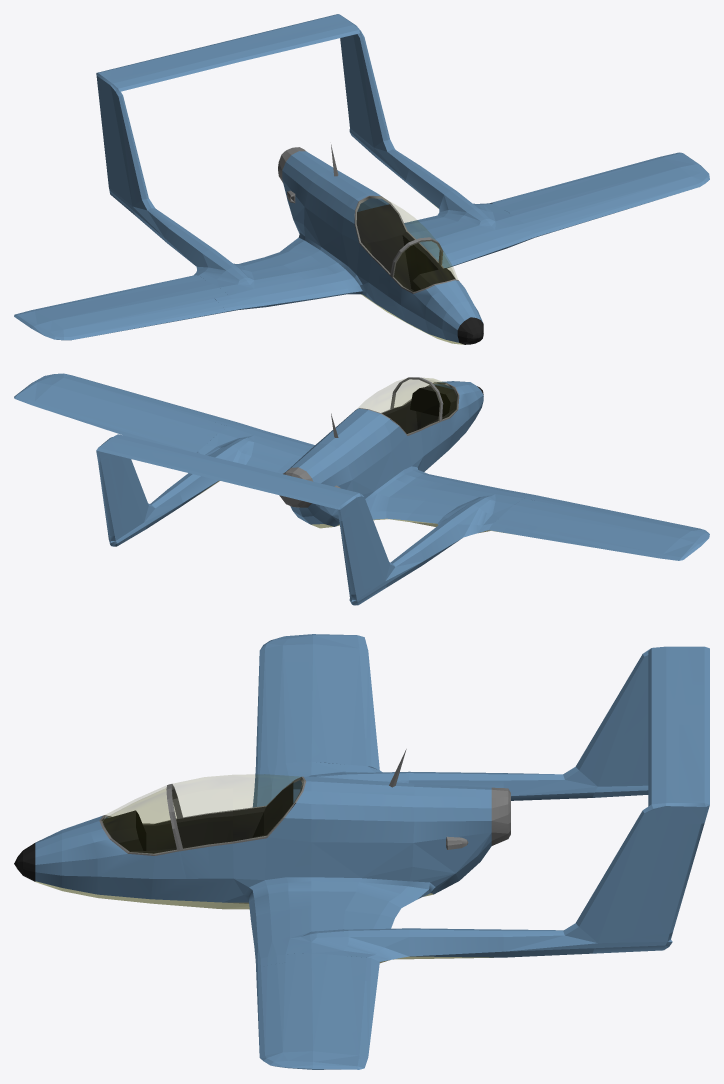
The model's file is aircraft_5_control_surfaces_rigged.glb.
The picture shows the model from 3 angles, top to bottom: view 1: azimuth 30°, elevation 25°; view 2: azimuth 150°, elevation 25°; view 3: azimuth 270°, elevation 25°; orthographic projection. The views are drawn at different scales.
Parts seen in each view (by area): view 1: body, OuterWingLeft, OuterWingRight, HorizontalBridge, elevator, VerticalTipRight, VerticalTipLeft, outer wing left, outer wing right, aileron left, canopy, aileron right (+3 smaller); view 2: body, OuterWingLeft, OuterWingRight, elevator, aileron left, VerticalTipRight, aileron right, outer wing right, outer wing left, HorizontalBridge, VerticalTipLeft, instrument panel (+3 smaller); view 3: body, OuterWingRight, OuterWingLeft, VerticalTipLeft, elevator, canopy, HorizontalBridge, outer wing right, VerticalTipRight, outer wing left, aileron right, rudder left (+2 smaller).
Boxes of the visible parts, bbox=[...] form: body: bbox=[108, 86, 549, 344]; OuterWingLeft: bbox=[529, 152, 709, 224]; OuterWingRight: bbox=[14, 282, 197, 340]; HorizontalBridge: bbox=[142, 29, 324, 82]; elevator: bbox=[100, 15, 345, 79]; VerticalTipRight: bbox=[96, 72, 155, 166]; VerticalTipLeft: bbox=[315, 14, 380, 107]; outer wing left: bbox=[490, 192, 576, 233]; outer wing right: bbox=[160, 275, 228, 317]; aileron left: bbox=[532, 155, 672, 196]; canopy: bbox=[354, 195, 440, 275]; aileron right: bbox=[26, 283, 165, 315]; body: bbox=[108, 377, 547, 605]; OuterWingLeft: bbox=[14, 373, 196, 443]; OuterWingRight: bbox=[528, 503, 709, 560]; elevator: bbox=[100, 441, 345, 508]; aileron left: bbox=[26, 395, 166, 443]; VerticalTipRight: bbox=[315, 483, 380, 555]; aileron right: bbox=[529, 524, 673, 559]; outer wing right: bbox=[489, 497, 574, 536]; outer wing left: bbox=[158, 410, 228, 452]; HorizontalBridge: bbox=[142, 443, 321, 490]; VerticalTipLeft: bbox=[96, 434, 155, 496]; instrument panel: bbox=[410, 385, 456, 416]; body: bbox=[14, 723, 672, 969]; OuterWingRight: bbox=[256, 634, 376, 742]; OuterWingLeft: bbox=[256, 975, 376, 1069]; VerticalTipLeft: bbox=[597, 779, 709, 892]; elevator: bbox=[679, 648, 709, 802]; canopy: bbox=[169, 774, 306, 849]; HorizontalBridge: bbox=[648, 667, 678, 783]; outer wing right: bbox=[256, 729, 379, 770]; VerticalTipRight: bbox=[597, 646, 709, 736]; outer wing left: bbox=[256, 953, 379, 984]; aileron right: bbox=[345, 643, 376, 741]; rudder left: bbox=[649, 823, 704, 934].
Size of the model in its own units: 13.52 by 2.62 by 9.16.
